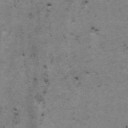oxide scale of temperature system: (13, 52, 48, 116), (91, 26, 100, 32), (46, 2, 52, 7), (84, 0, 88, 4), (74, 76, 78, 80), (122, 43, 126, 46), (126, 124, 128, 128)
